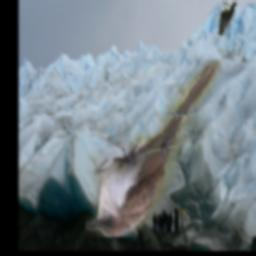Crow: (218, 3, 236, 36)
Cuckoo: (86, 61, 222, 238)
